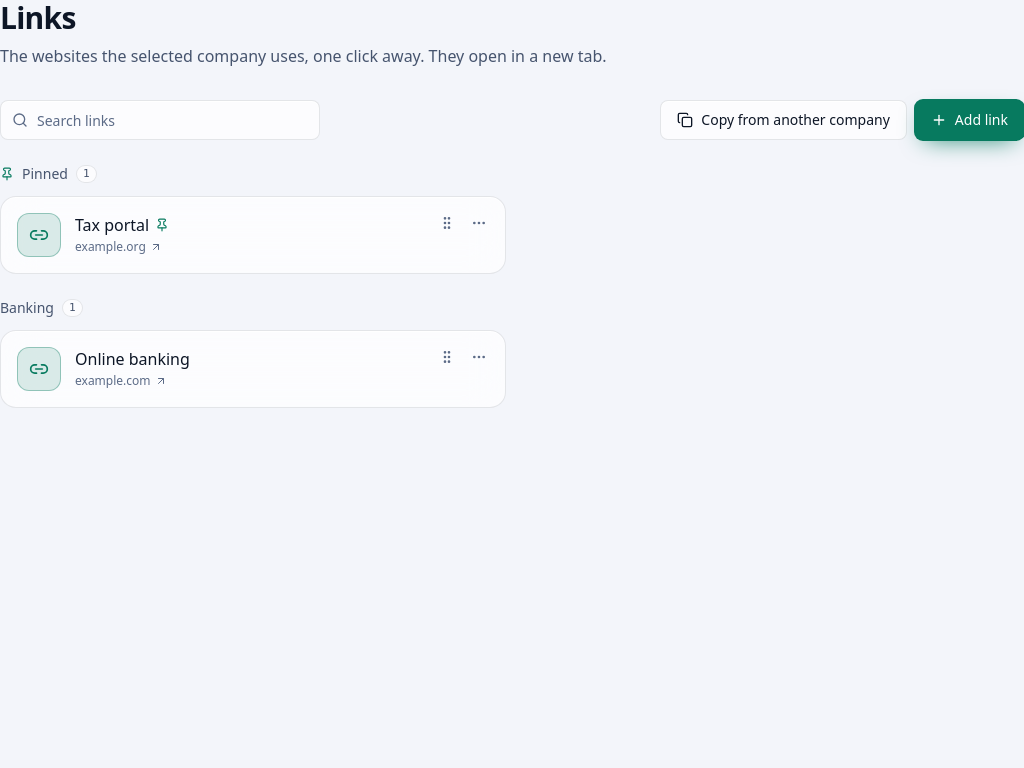
Test case: adding a link › explains a duplicate address in plain words
Check: the text "Tax portal" is shown, box [75,213,149,237]
Click the button "Add link": (969,120) [915,100,1023,140]
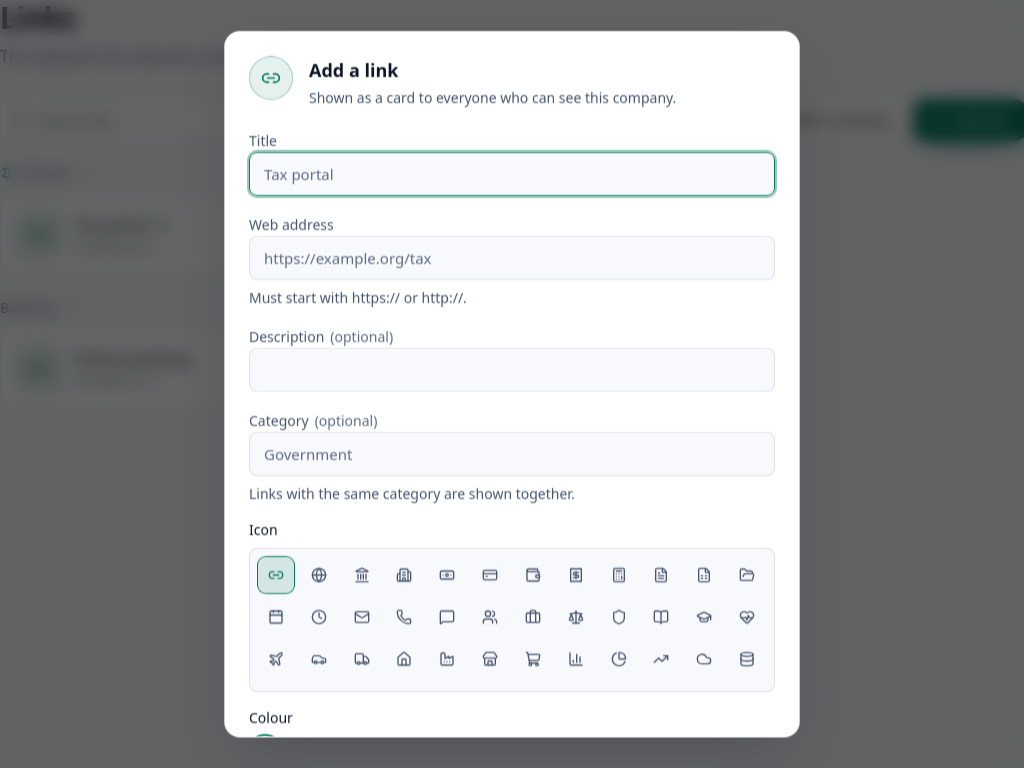
In the field labelled "Title": (512,174) [249,152,775,196], type "Tax again"
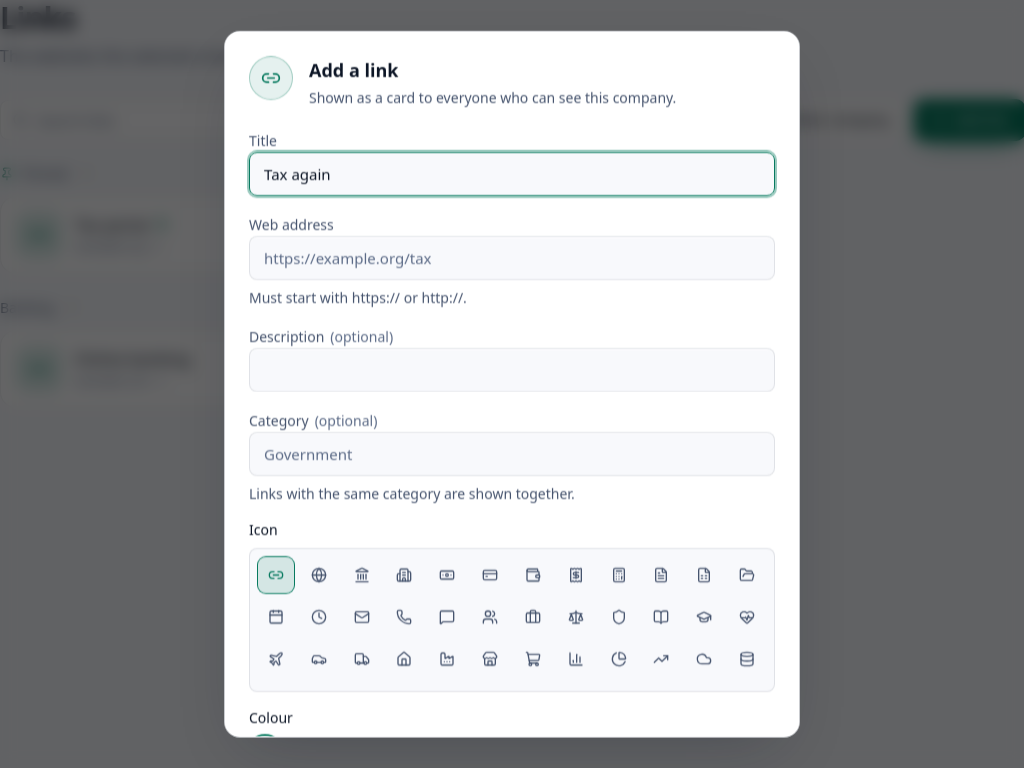
In the field labelled "Web address": (512,258) [249,236,775,280], type "https://example.org/tax/"
(page scrolled)
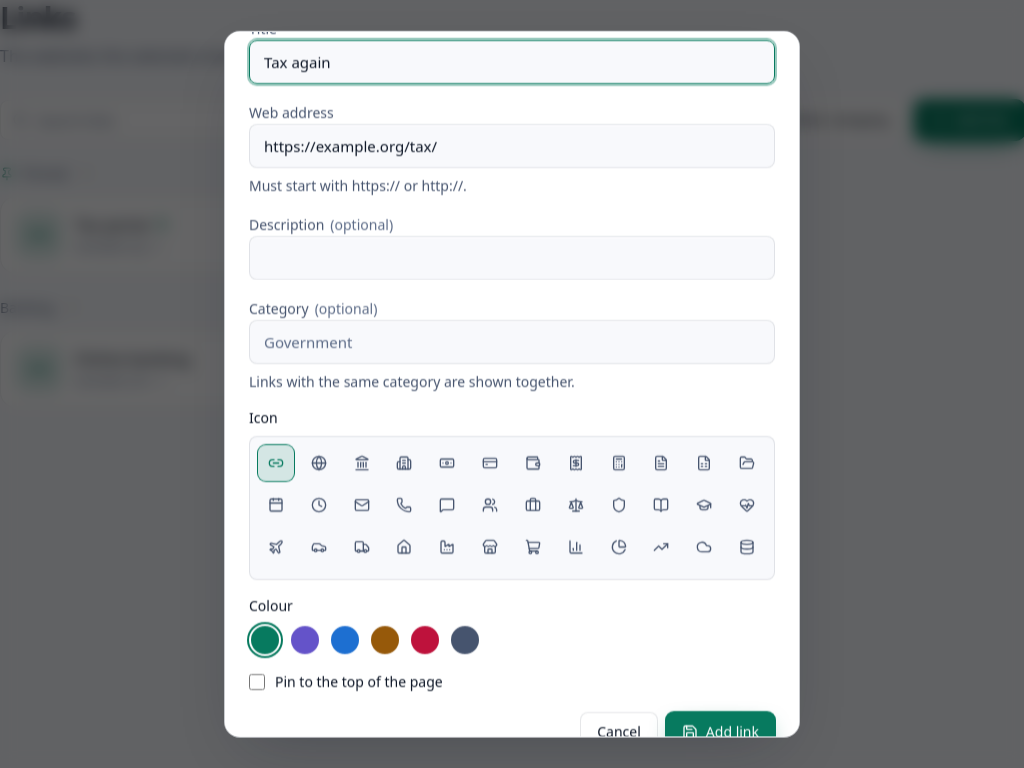
Submit the form labelled "Title", box [249,16,775,752]
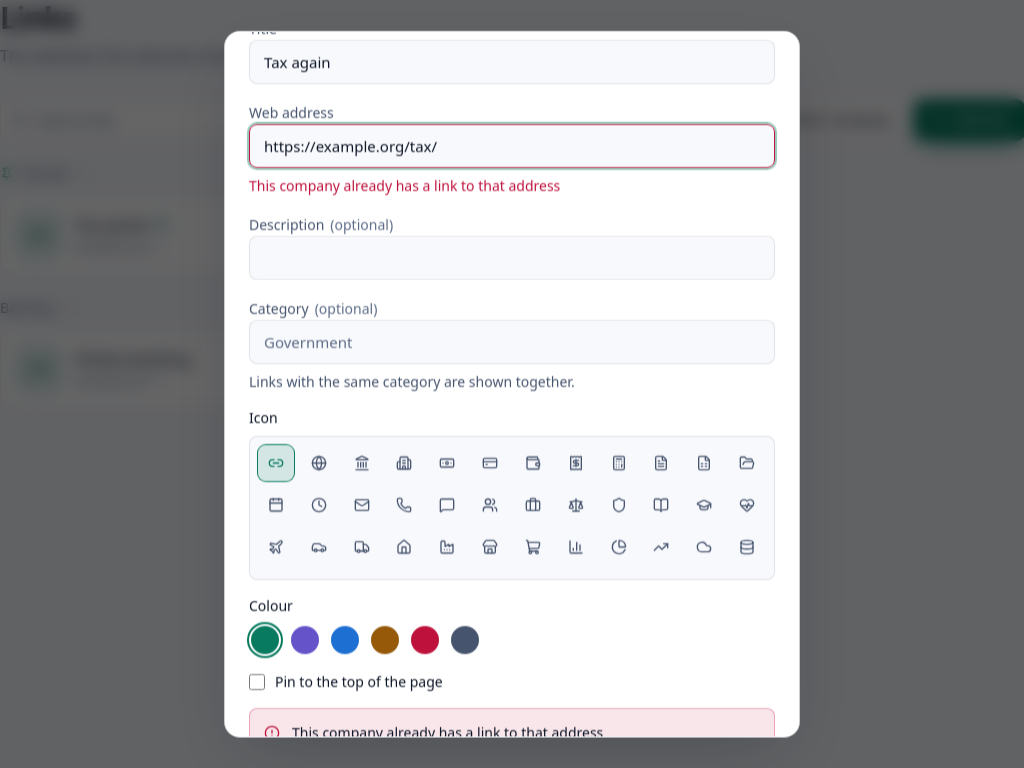
Check: the message shows "This company already has a link to that address", box [292,723,603,737]
